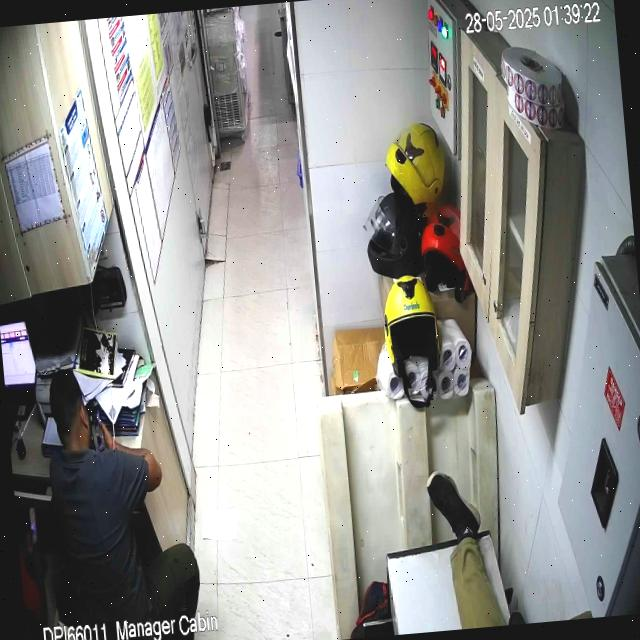helmet: (385, 123, 445, 218), (383, 279, 441, 373), (362, 194, 421, 279), (422, 200, 467, 304)
